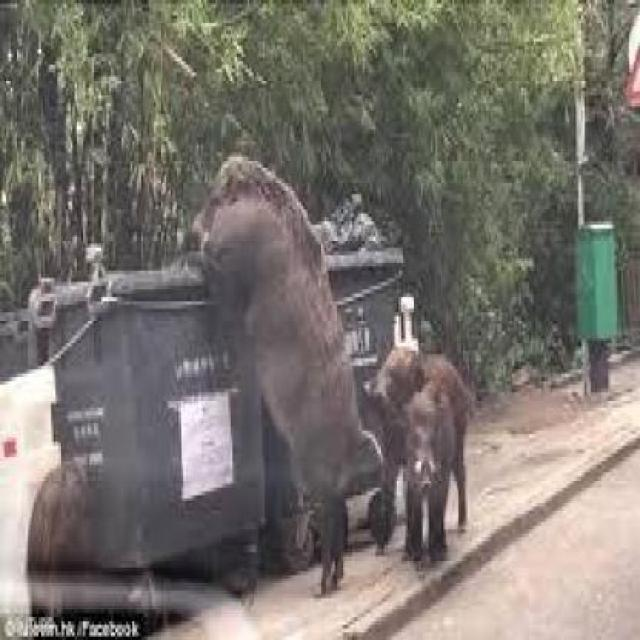wildboar: (173, 146, 390, 594), (365, 339, 477, 543), (18, 451, 119, 640), (396, 380, 462, 575)
